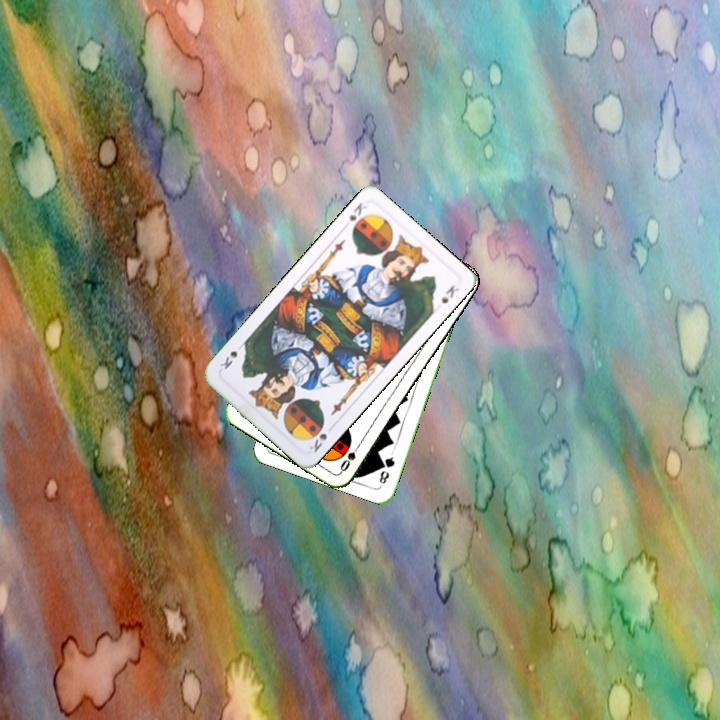G8: (375, 449, 397, 486)
SK: (305, 421, 337, 455), (344, 198, 369, 225)
SO: (336, 438, 364, 474)
